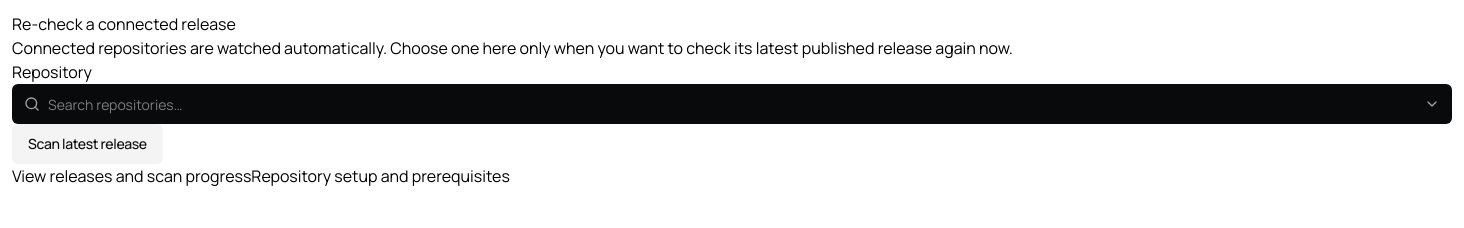
tracks the returned job without claiming a completed check passed
Step 1. Click the dropdown named "Repository" → point(732, 104), box x1=12 y1=84 x2=1452 y2=124
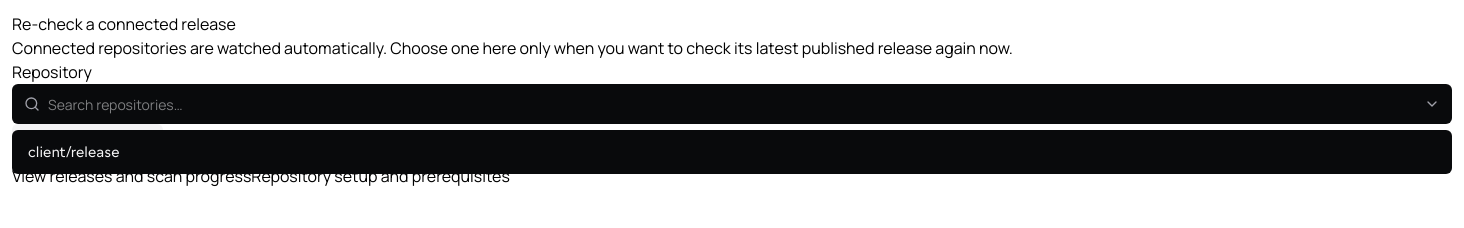
Step 2. Click the option "client/release" → point(74, 152), box x1=28 y1=144 x2=120 y2=160
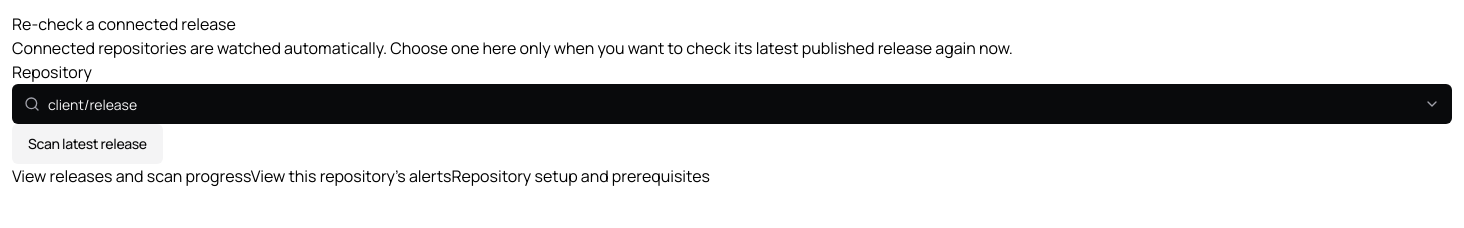
Step 3. Click the button "Scan latest release" → point(87, 144), box x1=12 y1=124 x2=163 y2=164
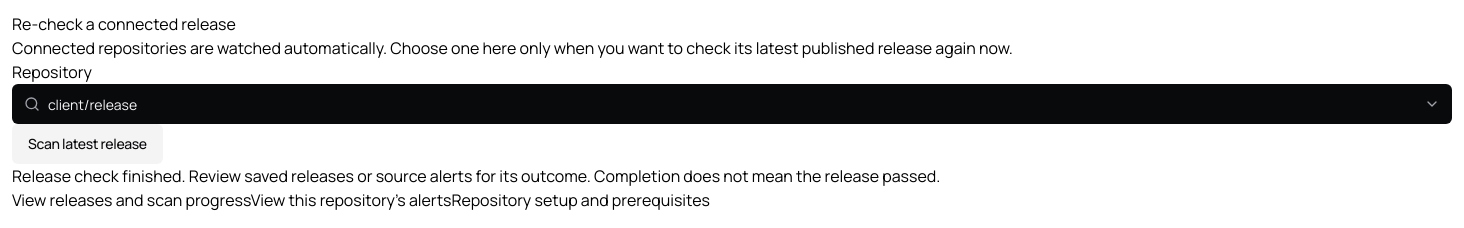
expect the message shows "Completion does not mean the release passed": met, box x1=12 y1=165 x2=940 y2=187
